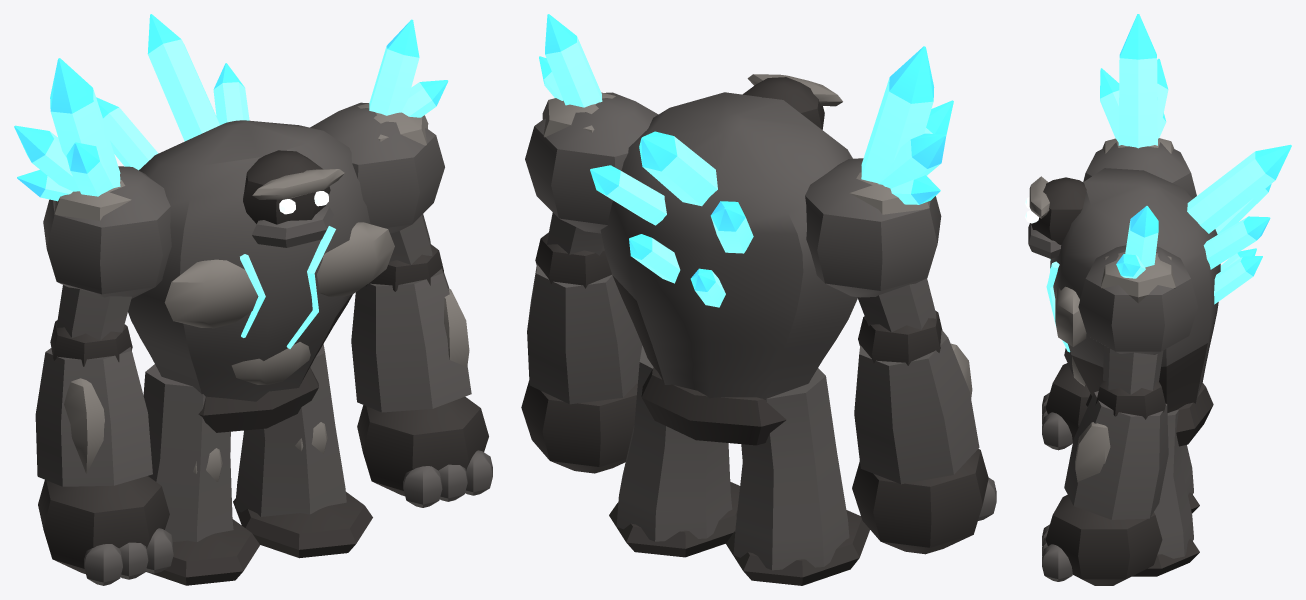
The model's file is golem.glb.
3 views of the same model, side by side, from view 1: azimuth 30°, elevation 25°; view 2: azimuth 150°, elevation 25°; view 3: azimuth 270°, elevation 25° (orthographic). The views are drawn at different scales.
Parts seen in each view (by area): view 1: Torso, ArmL_Fore, ArmR_Fore, ArmR_Shoulder, LegR_Mesh, LegL_Mesh, ArmL_Shoulder, ArmR_Fist, ArmL_Fist, LegL_Foot, Pec1, BackCrystal0 (+31 smaller); view 2: Torso, LegR_Mesh, ArmR_Fore, ArmR_Shoulder, ArmL_Fore, LegL_Mesh, ArmL_Shoulder, ArmR_Fist, ArmL_Fist, Pelvis, ArmR_Crystal0, BackCrystal0 (+18 smaller); view 3: Torso, ArmL_Fore, ArmL_Shoulder, ArmL_Fist, ArmR_Crystal0, BackCrystal0, LegL_Mesh, ArmR_Shoulder, HeadMesh, ArmL_Upper, ArmR_Fist, ArmL_ShoulderCap (+18 smaller).
Boxes of the visible parts, x1,y1,x2,y2 form: Torso: (128, 120, 370, 401); ArmL_Fore: (351, 268, 471, 412); ArmR_Fore: (35, 347, 152, 486); ArmR_Shoulder: (43, 166, 171, 298); LegR_Mesh: (143, 364, 233, 541); LegL_Mesh: (235, 344, 346, 516); ArmL_Shoulder: (310, 102, 444, 233); ArmR_Fist: (38, 476, 169, 573); ArmL_Fist: (357, 396, 488, 496); LegL_Foot: (233, 492, 372, 558); Pec1: (164, 259, 257, 328); BackCrystal0: (147, 14, 219, 141); Torso: (600, 92, 857, 399); LegR_Mesh: (733, 368, 849, 570); ArmR_Fore: (854, 330, 979, 484); ArmR_Shoulder: (805, 158, 941, 297); ArmL_Fore: (527, 264, 642, 404); LegL_Mesh: (616, 345, 732, 541); ArmL_Shoulder: (525, 92, 658, 233); ArmR_Fist: (852, 449, 988, 554); ArmL_Fist: (521, 380, 637, 473); Pelvis: (641, 367, 786, 445); ArmR_Crystal0: (861, 46, 934, 186); BackCrystal0: (639, 131, 717, 206); Torso: (1050, 168, 1220, 412); ArmL_Fore: (1064, 391, 1168, 519); ArmL_Shoulder: (1078, 245, 1197, 354); ArmL_Fist: (1045, 494, 1162, 585); ArmR_Crystal0: (1118, 14, 1157, 148); BackCrystal0: (1187, 144, 1291, 233); LegL_Mesh: (1154, 410, 1193, 558); ArmR_Shoulder: (1083, 142, 1196, 198); HeadMesh: (1031, 177, 1086, 244); ArmL_Upper: (1103, 345, 1163, 394); ArmR_Fist: (1045, 363, 1090, 442); ArmL_ShoulderCap: (1100, 252, 1175, 303).
Bounding box in the file's own units: 2.21 × 2.63 × 1.4.
